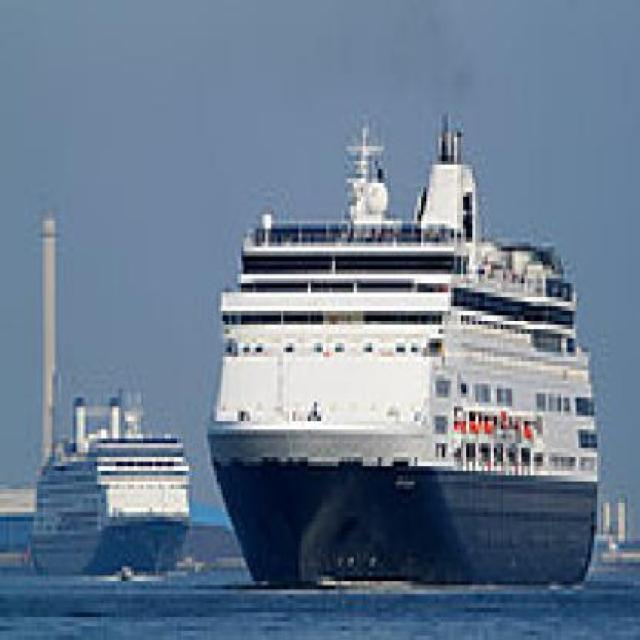cruise: (196, 102, 614, 600), (26, 380, 200, 591)
